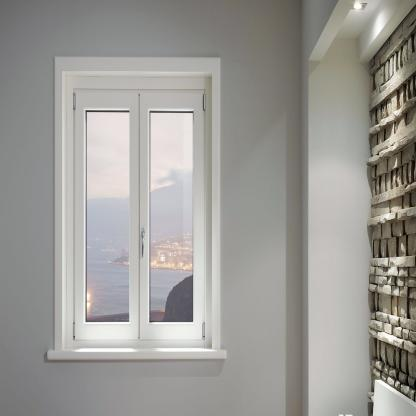Window: (56, 56, 220, 360)
